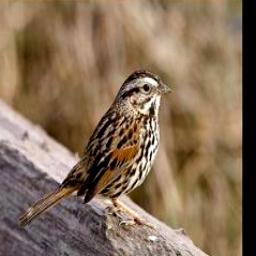Sparrow: (17, 68, 174, 233)
